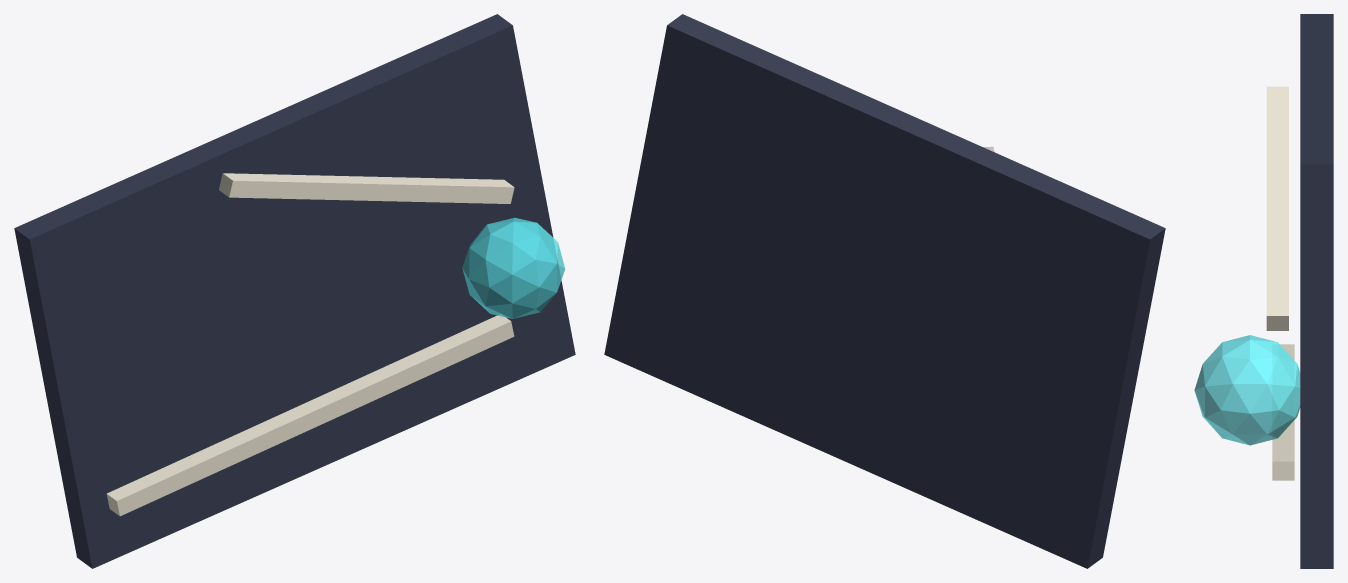
Rendered from 02_world_prop_polish.glb.
3 renders of one model, left to right at view 1: azimuth 30°, elevation 25°; view 2: azimuth 150°, elevation 25°; view 3: azimuth 270°, elevation 25°, orthographic. The views are drawn at different scales.
Visible parts, largest first — view 1: object_overlay_plate, edge_wear_a, glow_socket, edge_wear_b; view 2: object_overlay_plate; view 3: object_overlay_plate, glow_socket, edge_wear_b, edge_wear_a.
Boxes of the visible parts, left/top/right/bottom form: object_overlay_plate: left=14, top=14, right=575, bottom=568; edge_wear_a: left=106, top=314, right=514, bottom=516; glow_socket: left=462, top=217, right=565, bottom=318; edge_wear_b: left=219, top=173, right=514, bottom=203; object_overlay_plate: left=604, top=14, right=1165, bottom=568; object_overlay_plate: left=1300, top=14, right=1333, bottom=568; glow_socket: left=1194, top=335, right=1300, bottom=445; edge_wear_b: left=1266, top=86, right=1288, bottom=330; edge_wear_a: left=1272, top=344, right=1294, bottom=480.
Bounding box in the file's own units: 1.22 × 0.9426 × 0.25.
